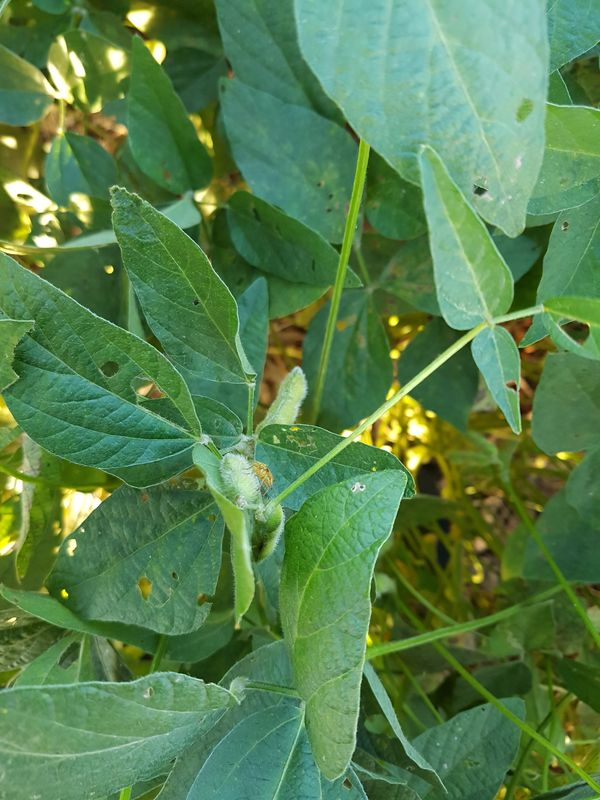Euschistus_heros_ninfa: (238, 457, 278, 495)
